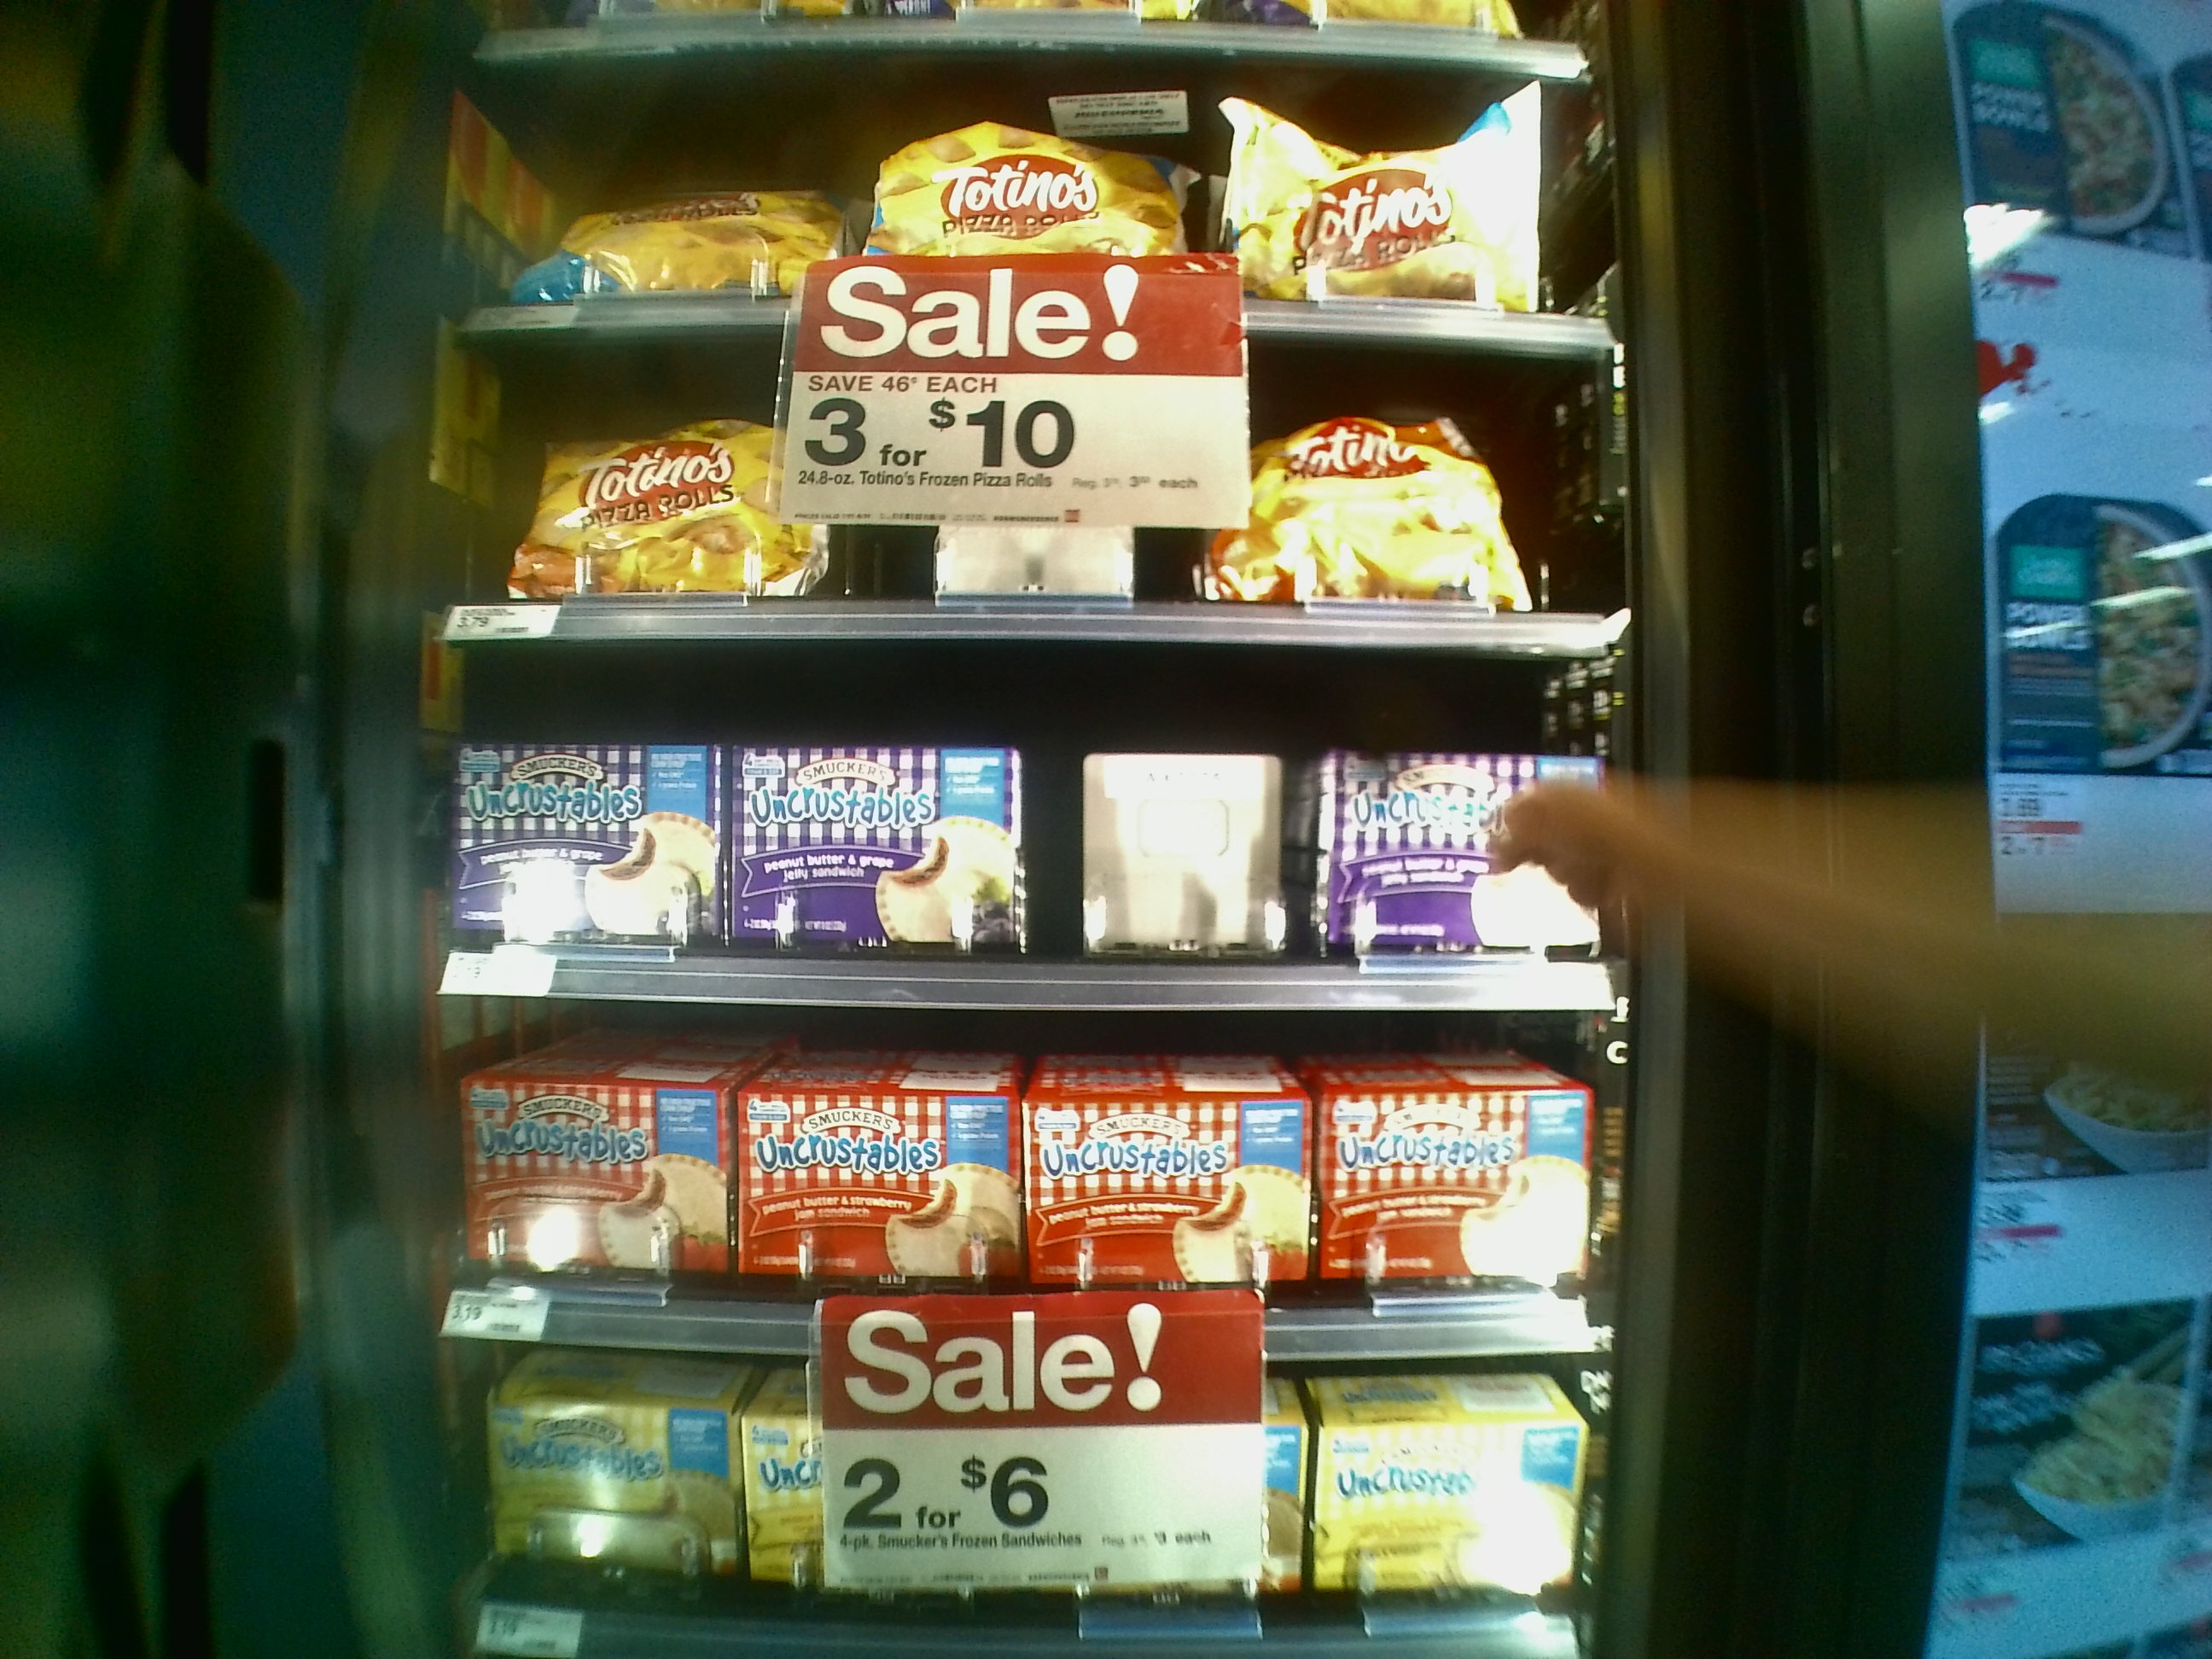shelf: (402, 974, 1620, 1340), (425, 314, 1615, 655)
